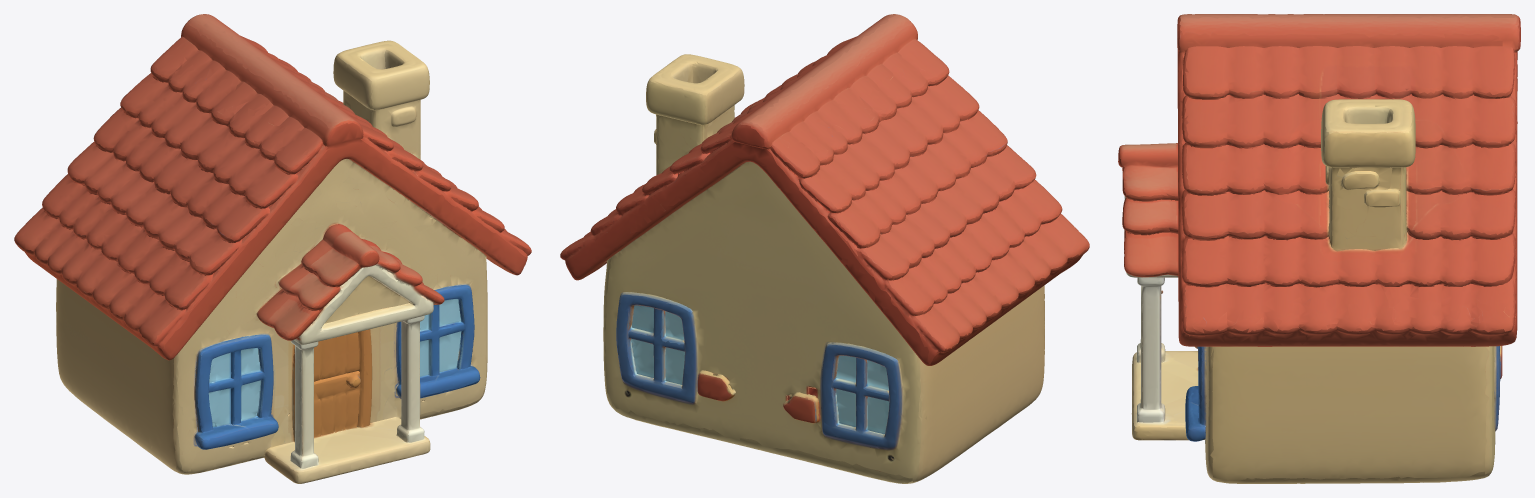
File: House.glb
3 renders of one model, left to right at view 1: azimuth 30°, elevation 25°; view 2: azimuth 150°, elevation 25°; view 3: azimuth 270°, elevation 25°, orthographic. The views are drawn at different scales.
Parts seen in each view (by area): view 1: geometry_0; view 2: geometry_0; view 3: geometry_0.
Part boxes in pixels (x1,y1,x2,y2): geometry_0: (14, 14, 531, 483); geometry_0: (560, 14, 1089, 483); geometry_0: (1118, 14, 1520, 483).
Size of the model in its own units: 0.12 by 0.1012 by 0.0953.
Materials: 1 (1 with a texture image).
